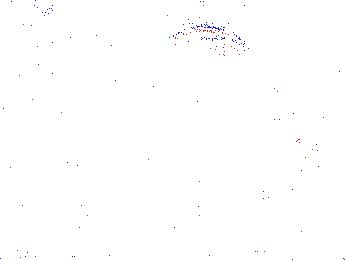moon jellyfish: (48, 1, 162, 64), (151, 26, 245, 93), (268, 84, 328, 171), (1, 10, 60, 82)
